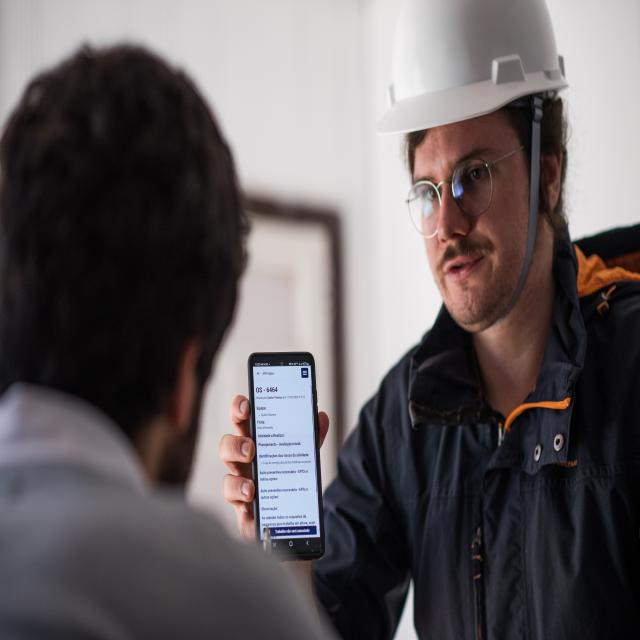capacete: (372, 0, 572, 141)
